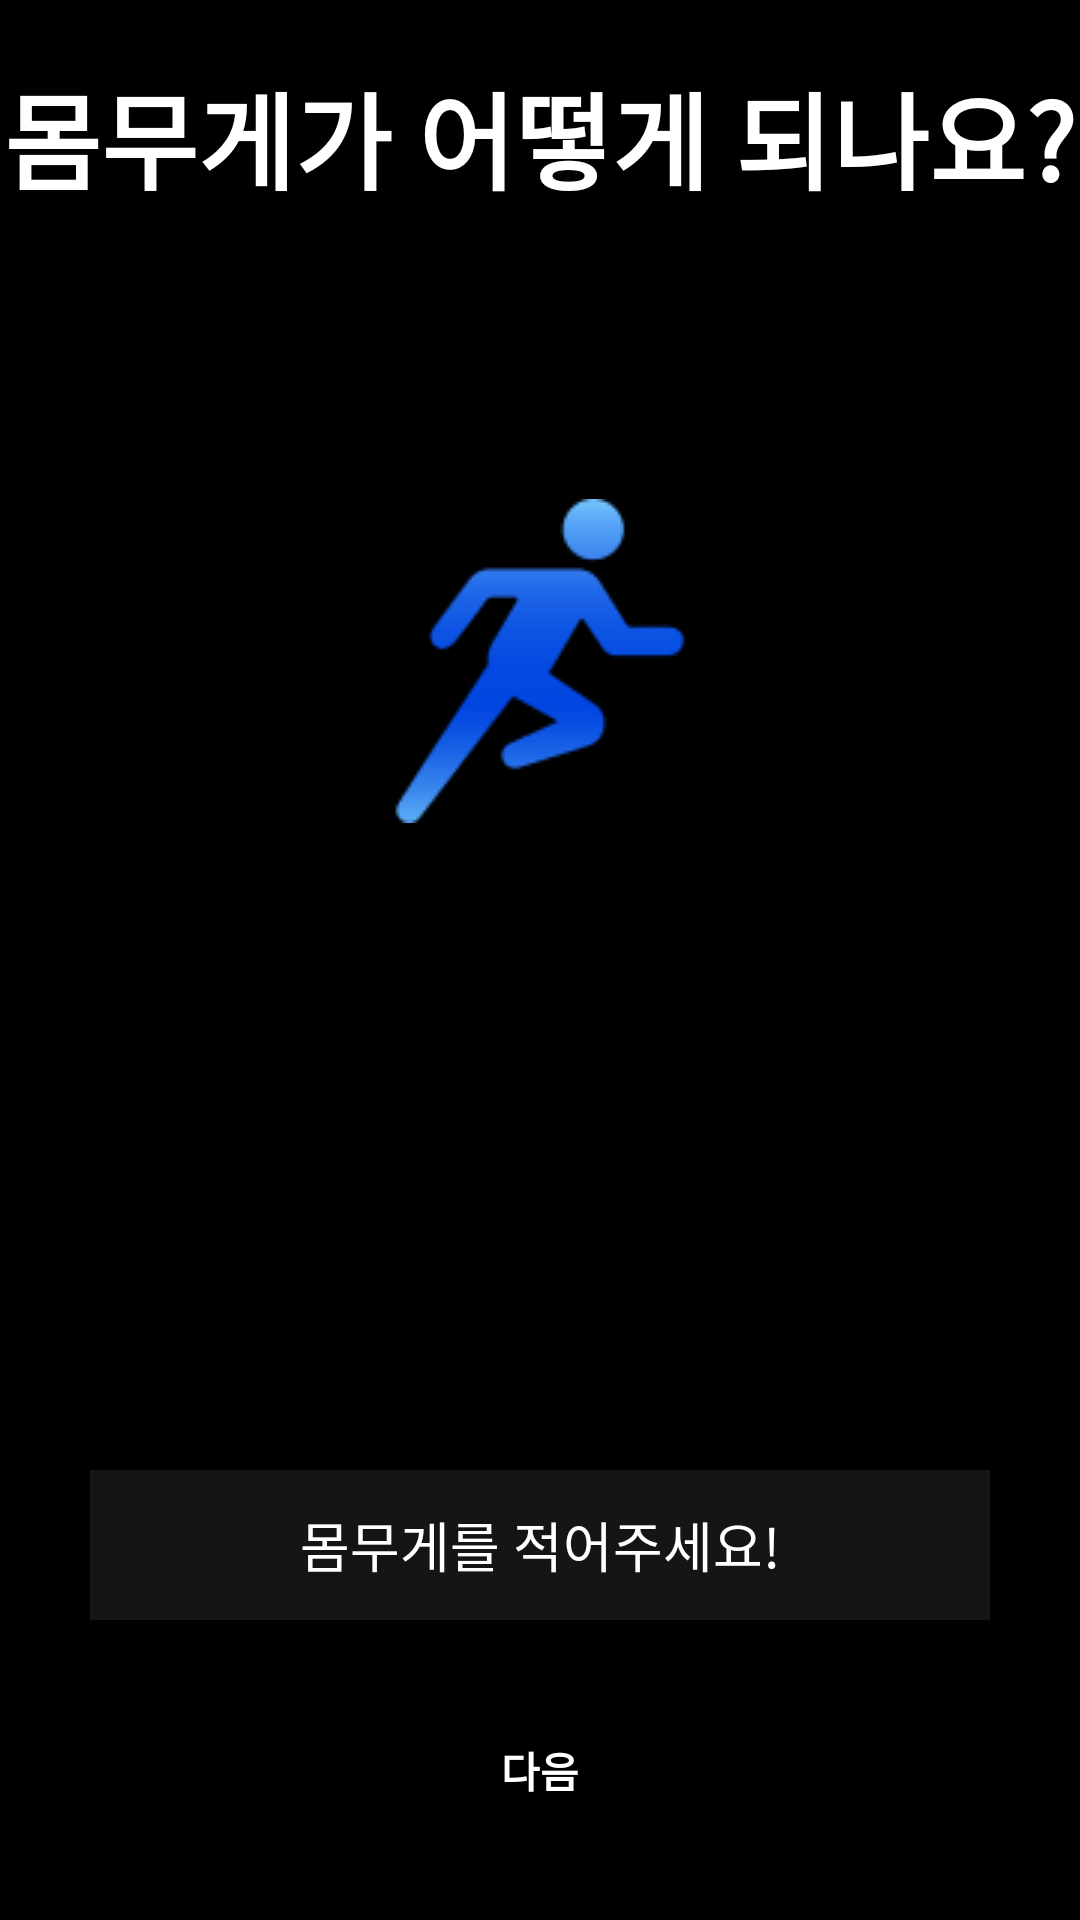

Icon bounding boxes for this 1080px×1920px phone screenshot, format (x1, y1, x2, y2):
This is an Running Man icon: (395, 499, 685, 823)
